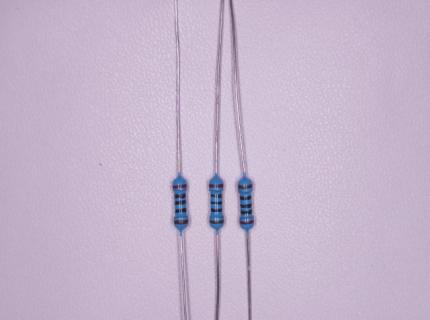Black band: (175, 207, 187, 214), (174, 200, 186, 206), (210, 207, 222, 212), (240, 210, 252, 215), (240, 204, 252, 209), (239, 196, 251, 201), (174, 194, 186, 199), (210, 194, 222, 198), (211, 201, 222, 205)
Brown band: (209, 219, 224, 224), (238, 184, 253, 189), (174, 220, 189, 224)
Red band: (172, 184, 187, 189), (239, 220, 254, 225), (209, 184, 224, 188)
